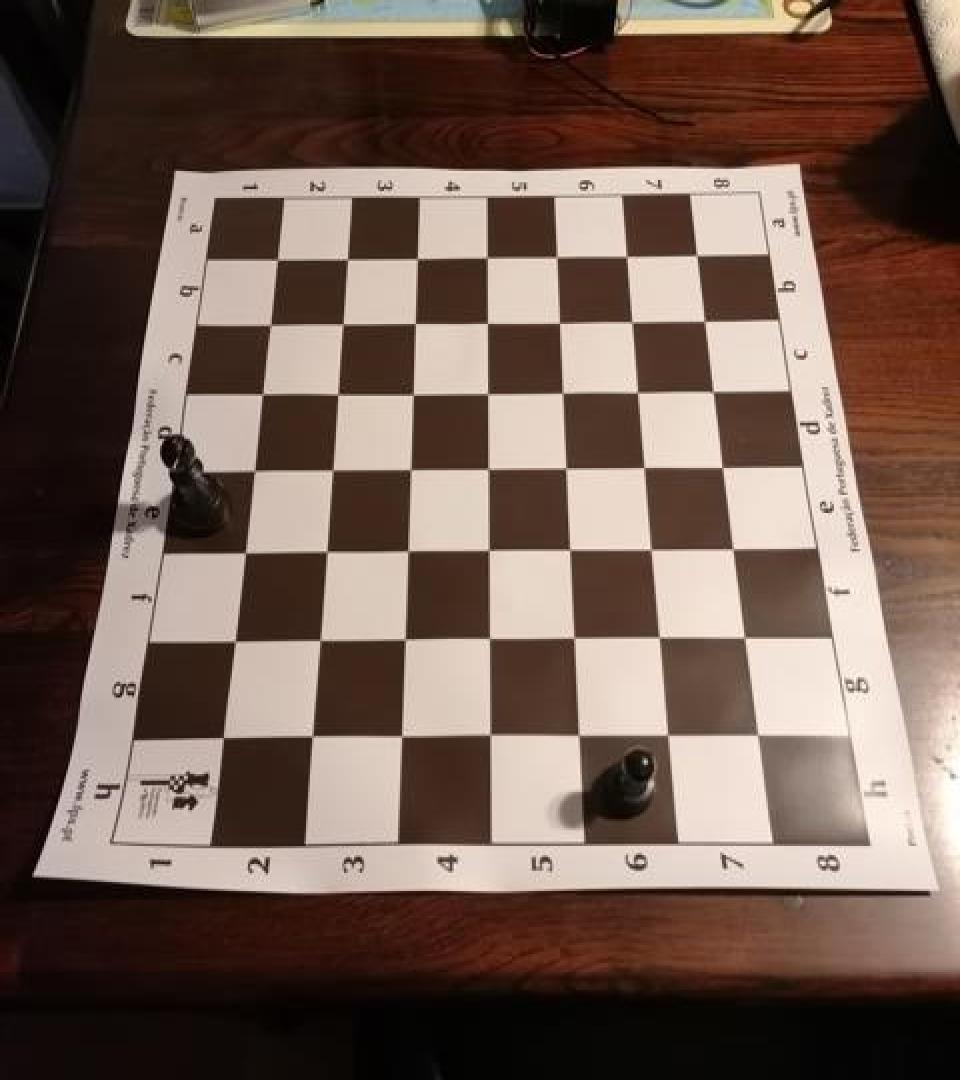xcorner: (682, 238, 714, 274), (611, 238, 643, 274), (541, 238, 573, 274), (470, 240, 502, 276), (400, 241, 432, 277), (330, 241, 362, 277), (260, 242, 292, 278), (690, 302, 722, 338), (617, 302, 649, 338), (543, 304, 575, 340), (470, 305, 502, 341), (398, 305, 430, 341), (325, 306, 357, 342), (253, 306, 285, 342), (699, 372, 731, 408), (623, 374, 655, 410), (547, 374, 579, 410), (471, 374, 503, 410), (395, 374, 427, 410), (319, 376, 351, 412), (244, 376, 276, 412), (709, 449, 741, 485), (629, 449, 661, 485), (550, 450, 582, 486), (471, 450, 503, 486), (392, 450, 424, 486), (314, 451, 346, 487), (235, 451, 267, 487), (720, 531, 752, 567), (637, 532, 669, 568), (554, 532, 586, 568), (471, 532, 503, 568), (389, 533, 421, 569), (307, 533, 339, 569), (225, 533, 257, 569), (731, 622, 763, 658), (644, 622, 676, 658), (558, 622, 590, 658), (472, 622, 504, 658), (386, 622, 418, 658), (300, 622, 332, 658), (215, 622, 247, 658), (744, 720, 776, 756), (653, 720, 685, 756), (562, 720, 594, 756), (472, 720, 504, 756), (382, 720, 414, 756), (292, 720, 324, 756), (203, 720, 235, 756)
